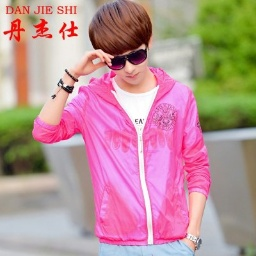face: (89, 1, 154, 84)
